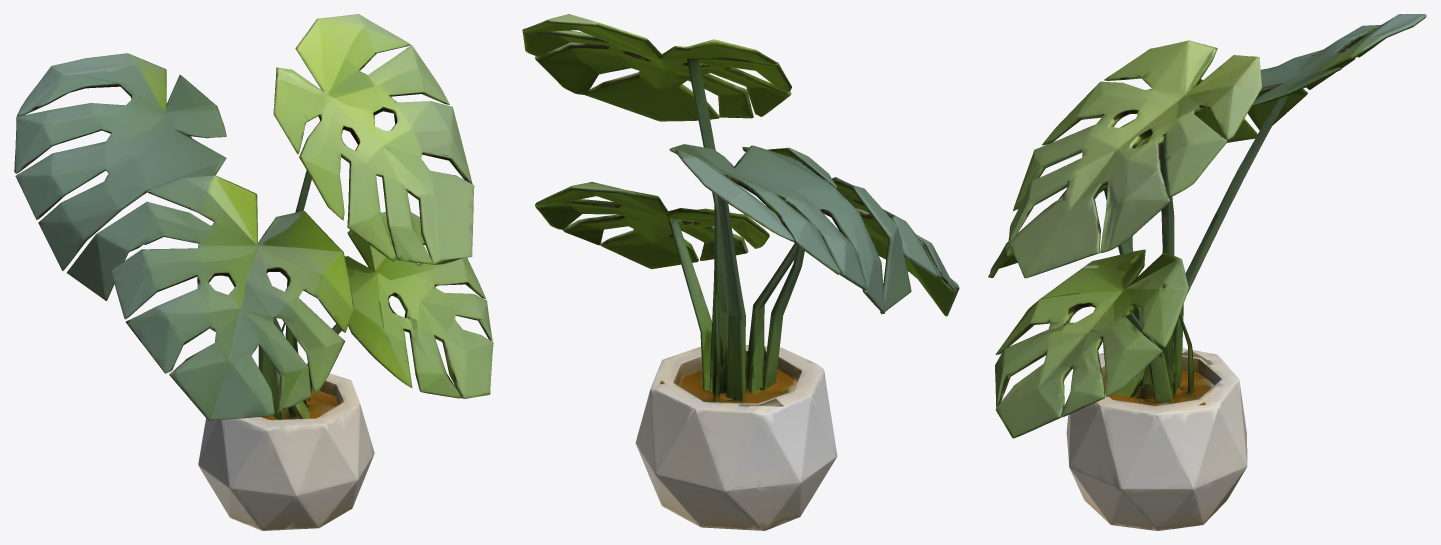
The model's file is plant.fbx.
3 renders of one model, left to right at view 1: azimuth 30°, elevation 25°; view 2: azimuth 150°, elevation 25°; view 3: azimuth 270°, elevation 25°, orthographic. The views are drawn at different scales.
Visible parts, largest first — view 1: node_0; view 2: node_0; view 3: node_0.
Part boxes in pixels (x1,y1,x2,y2): node_0: [14, 14, 493, 530]; node_0: [522, 14, 959, 530]; node_0: [988, 14, 1426, 530].
Size of the model in its own units: 84.88 by 97.62 by 79.86.
